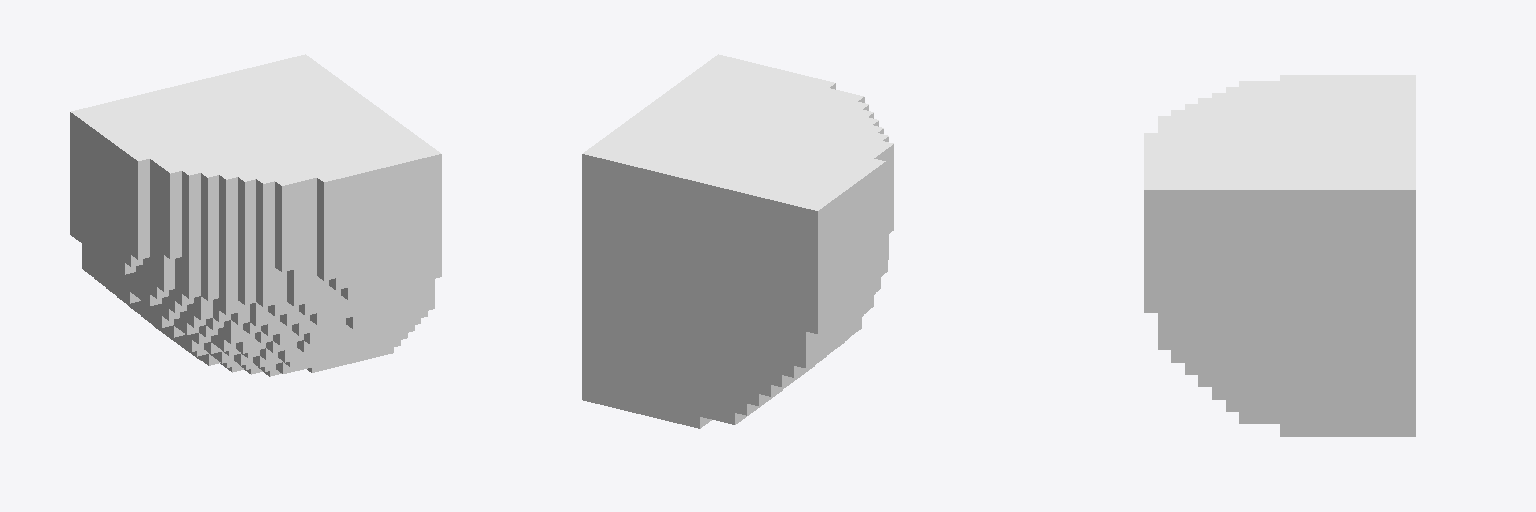
The model's file is roundcube.obj.
3 renders of one model, left to right at view 1: azimuth 30°, elevation 25°; view 2: azimuth 150°, elevation 25°; view 3: azimuth 270°, elevation 25°, orthographic.
Visible parts, largest first — view 1: object 1; view 2: object 1; view 3: object 1.
Boxes of the visible parts, <box> form: object 1: <box>70,54,441,376</box>; object 1: <box>582,54,893,428</box>; object 1: <box>1144,75,1415,436</box>.
Bounding box in the file's own units: 2 × 2 × 2.